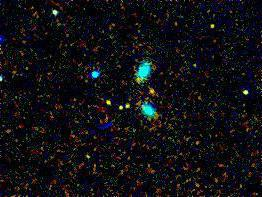star: (138, 76, 168, 106)
